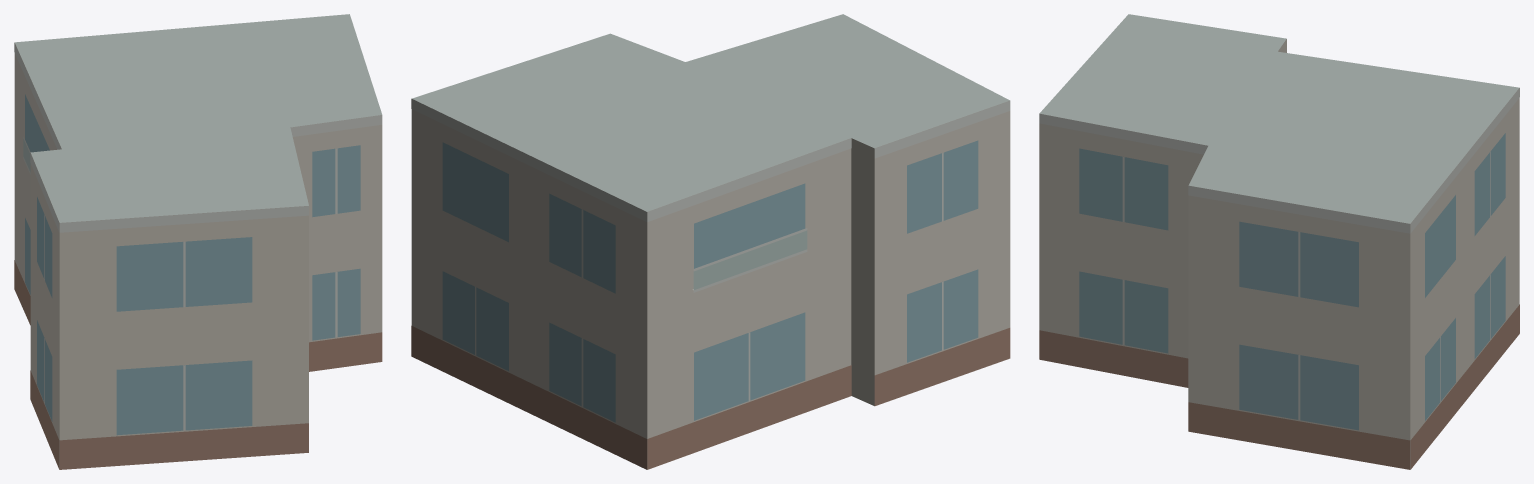
File: survey-upis-33000629.glb
The picture shows the model from 3 angles, left to right: view 1: azimuth 30°, elevation 25°; view 2: azimuth 150°, elevation 25°; view 3: azimuth 270°, elevation 25°; orthographic projection. The views are drawn at different scales.
Visible parts, largest first — view 1: survey-upis-33000629.tmp; view 2: survey-upis-33000629.tmp; view 3: survey-upis-33000629.tmp.
Boxes of the visible parts, left/top/right/bottom form: survey-upis-33000629.tmp: left=14, top=14, right=382, bottom=469; survey-upis-33000629.tmp: left=411, top=14, right=1010, bottom=469; survey-upis-33000629.tmp: left=1039, top=14, right=1519, bottom=469.
Bounding box in the file's own units: 11.17 × 6.1 × 10.81.
